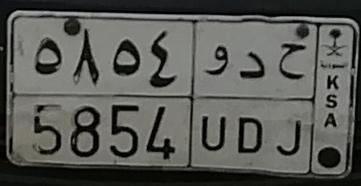4: (145, 29, 176, 161)
5: (109, 35, 141, 159), (32, 36, 63, 155)
8: (69, 26, 102, 159)
D: (237, 51, 262, 154)
J: (276, 40, 306, 159)
U: (201, 45, 229, 152)
